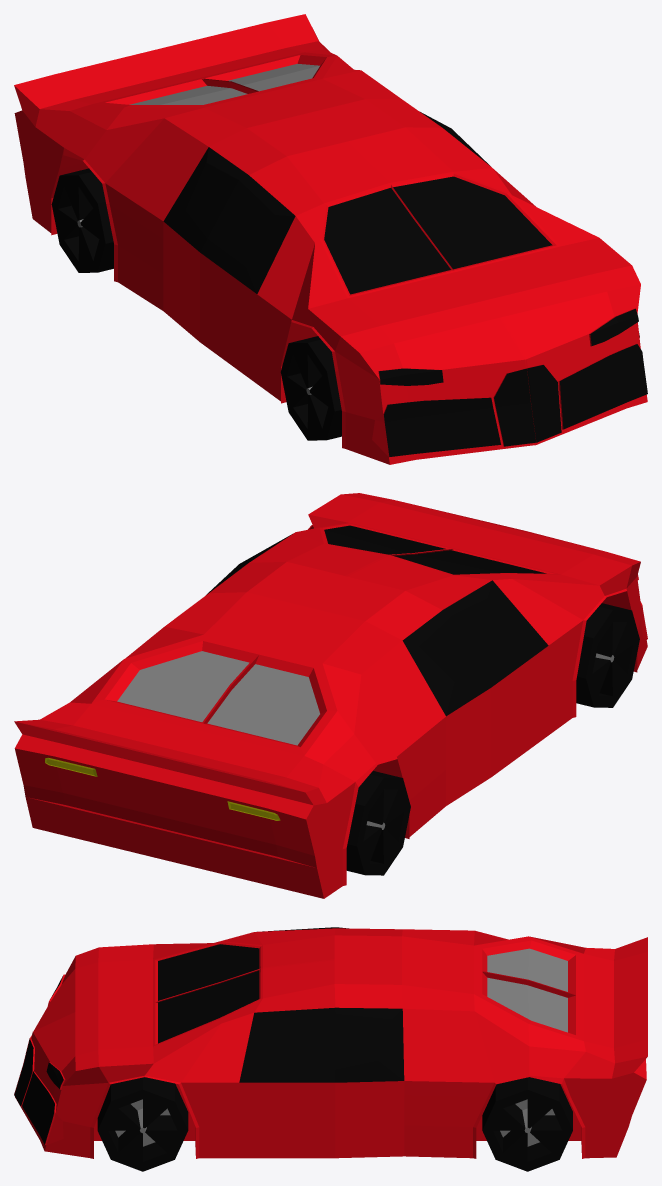
Rendered from coch3_1.fbx.
3 views of the same model, one above another, from view 1: azimuth 30°, elevation 25°; view 2: azimuth 150°, elevation 25°; view 3: azimuth 270°, elevation 25° (orthographic). The views are drawn at different scales.
Parts seen in each view (by area): view 1: Cube; view 2: Cube; view 3: Cube.
Part boxes in pixels (x1,y1,x2,y2): Cube: [14, 14, 647, 464]; Cube: [14, 493, 647, 898]; Cube: [14, 927, 647, 1171].
Bounding box in the file's own units: 140 × 78.02 × 300.
